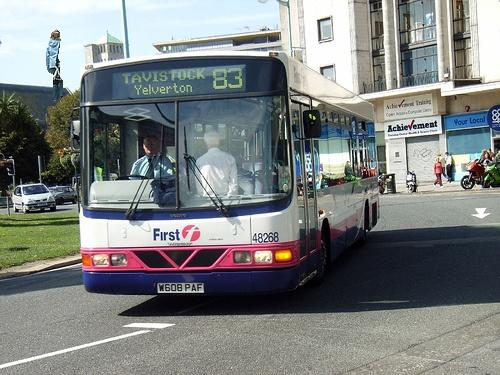tampered: (47, 30, 63, 101)
